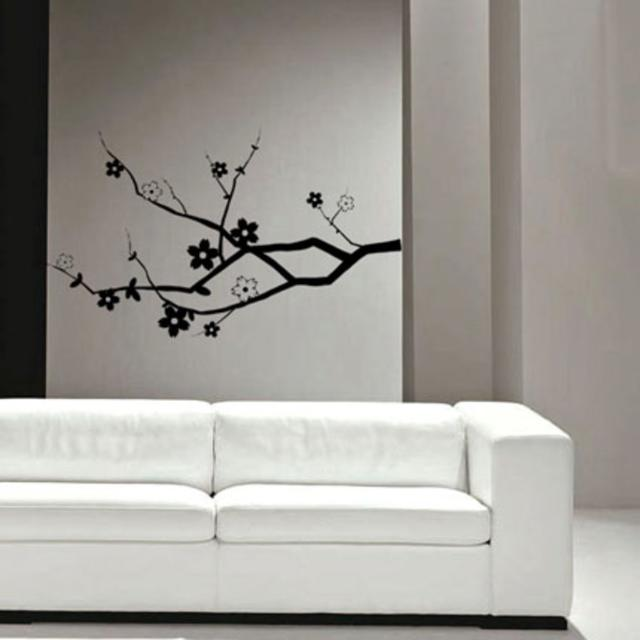Flower: (186, 235, 218, 269), (232, 214, 260, 248)
